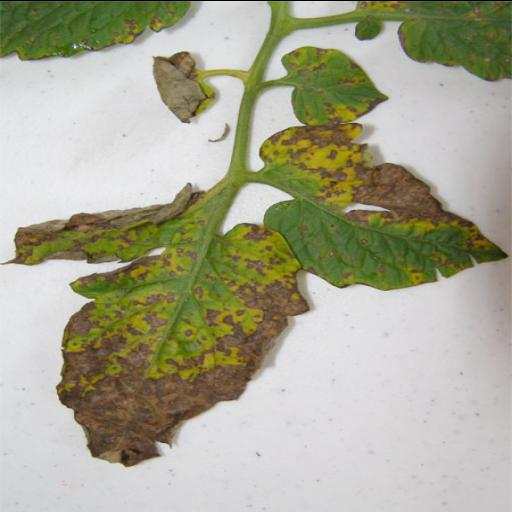Septoria: (0, 182, 308, 468), (248, 120, 512, 290), (345, 0, 511, 85), (0, 0, 220, 61), (274, 46, 390, 130)
